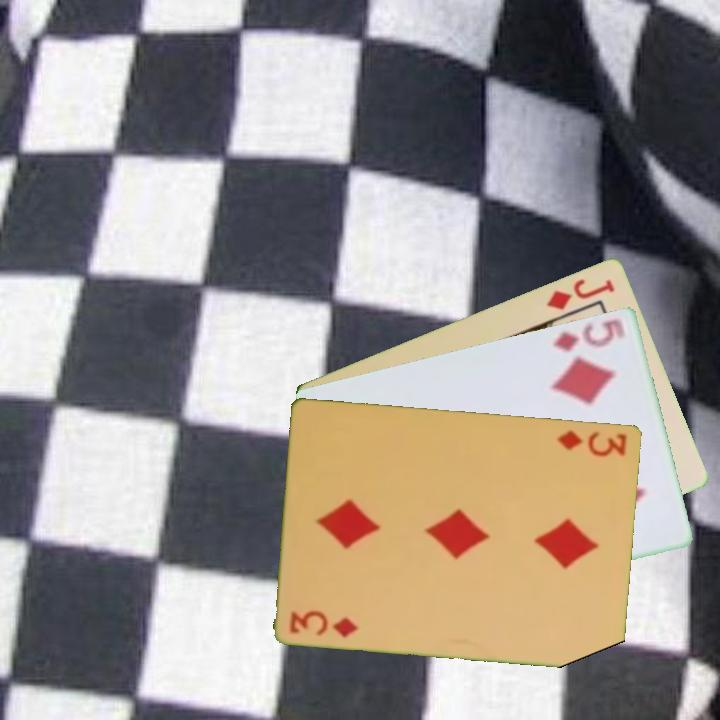3d: (554, 426, 630, 460), (286, 607, 362, 640)
5d: (549, 315, 629, 354)
Jd: (542, 274, 618, 313)
